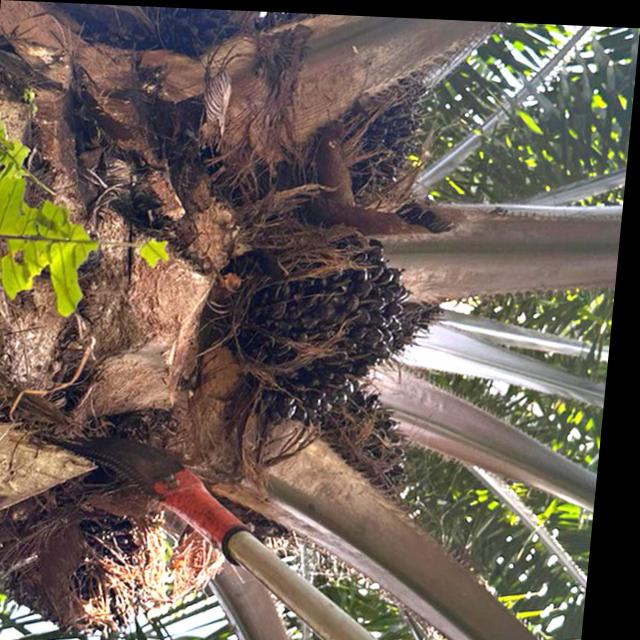unripe: (220, 225, 453, 432)
